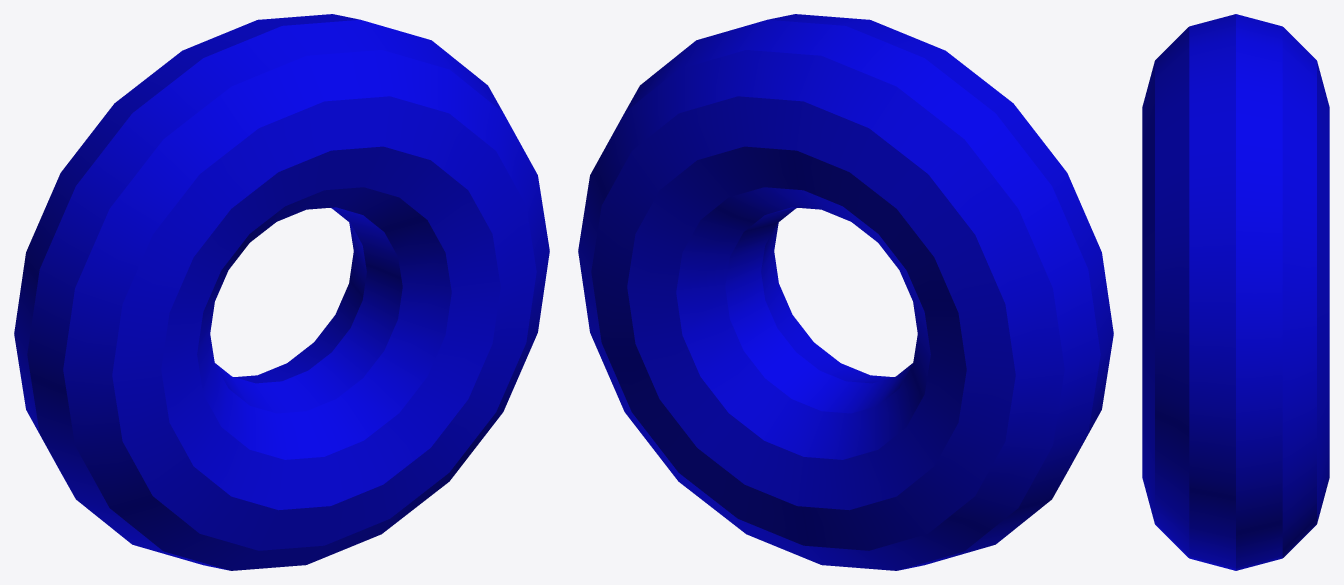
3 views of the same model, side by side, from view 1: azimuth 30°, elevation 25°; view 2: azimuth 150°, elevation 25°; view 3: azimuth 270°, elevation 25° (orthographic). The views are drawn at different scales.
Parts seen in each view (by area): view 1: pTorus1; view 2: pTorus1; view 3: pTorus1.
Boxes of the visible parts, x1,y1,x2,y2 form: pTorus1: (14, 14, 549, 570); pTorus1: (578, 14, 1113, 570); pTorus1: (1142, 14, 1329, 570).
Size of the model in its own units: 3 by 3 by 1.
